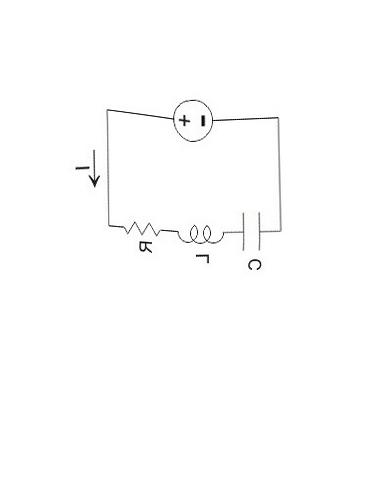Battery: (149, 90, 228, 152)
